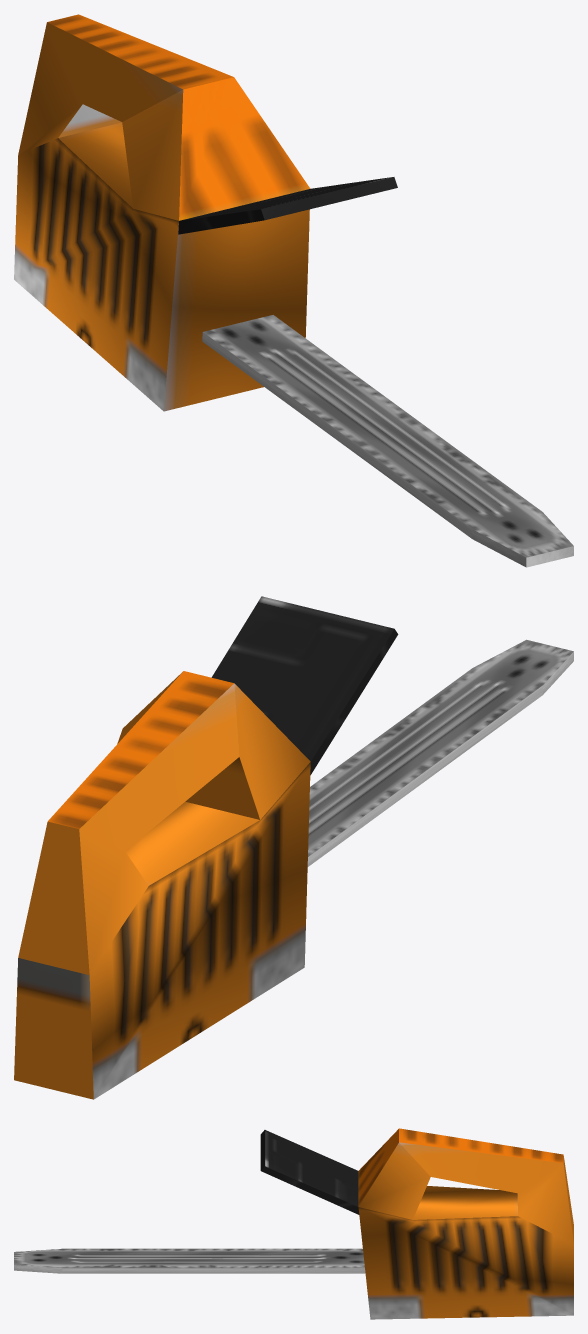
File: Hedgetrimmer.fbx
3 views of the same model, one above another, from view 1: azimuth 30°, elevation 25°; view 2: azimuth 150°, elevation 25°; view 3: azimuth 270°, elevation 25° (orthographic). The views are drawn at different scales.
Parts seen in each view (by area): view 1: Hedge_Trimmer; view 2: Hedge_Trimmer; view 3: Hedge_Trimmer.
Boxes of the visible parts, x1=… form: Hedge_Trimmer: x1=14, y1=14, x2=573, y2=567; Hedge_Trimmer: x1=14, y1=596, x2=573, y2=1099; Hedge_Trimmer: x1=14, y1=1128, x2=573, y2=1319.
Bounding box in the file's own units: 0.1447 × 0.2948 × 0.8844.
